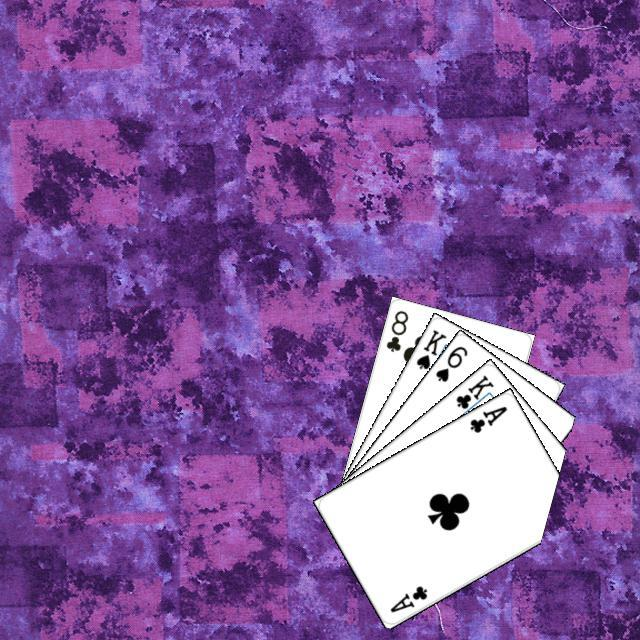6s: (430, 341, 469, 384)
8c: (381, 305, 410, 354)
Ac: (465, 401, 509, 435), (385, 580, 429, 614)
Kc: (451, 370, 495, 419)
Ks: (411, 325, 448, 371)
